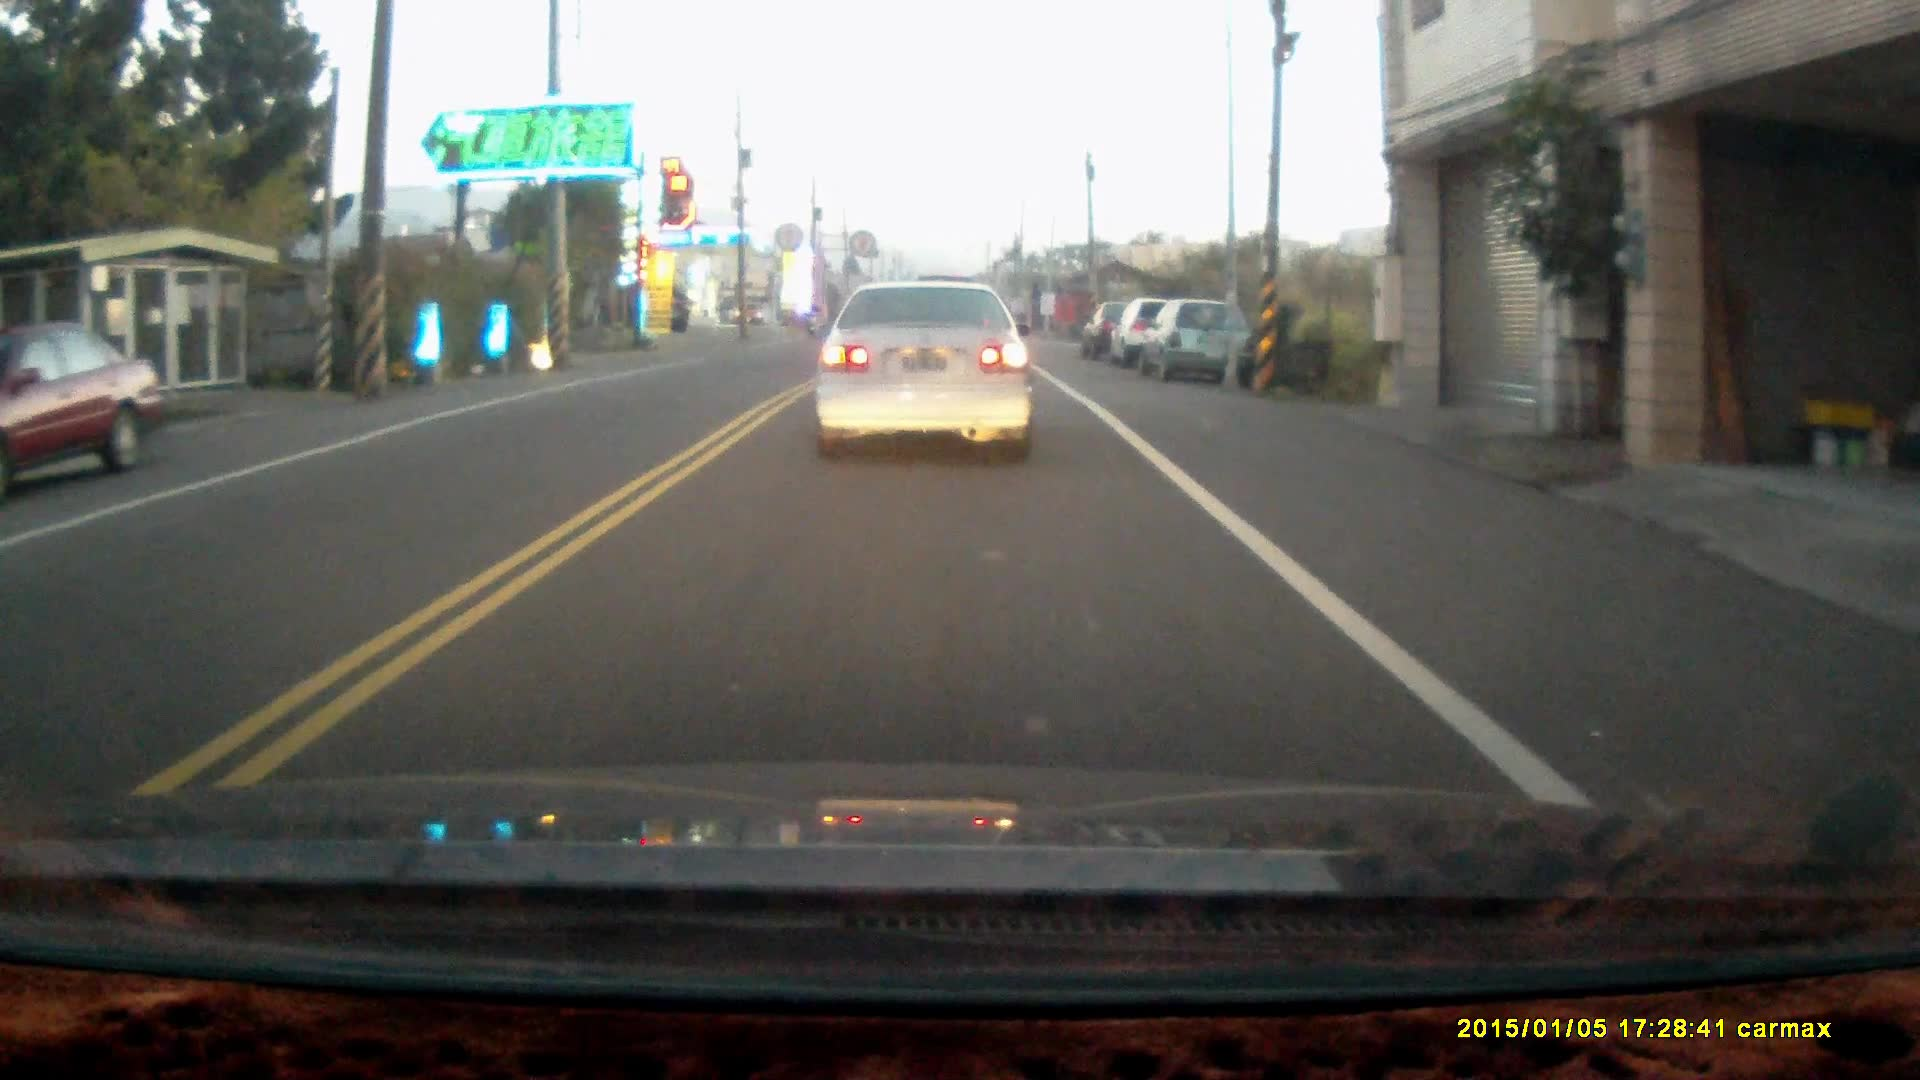vehicle: (814, 276, 1038, 459), (1, 323, 164, 492), (1143, 298, 1255, 392), (1116, 295, 1205, 365), (1077, 295, 1170, 357)
